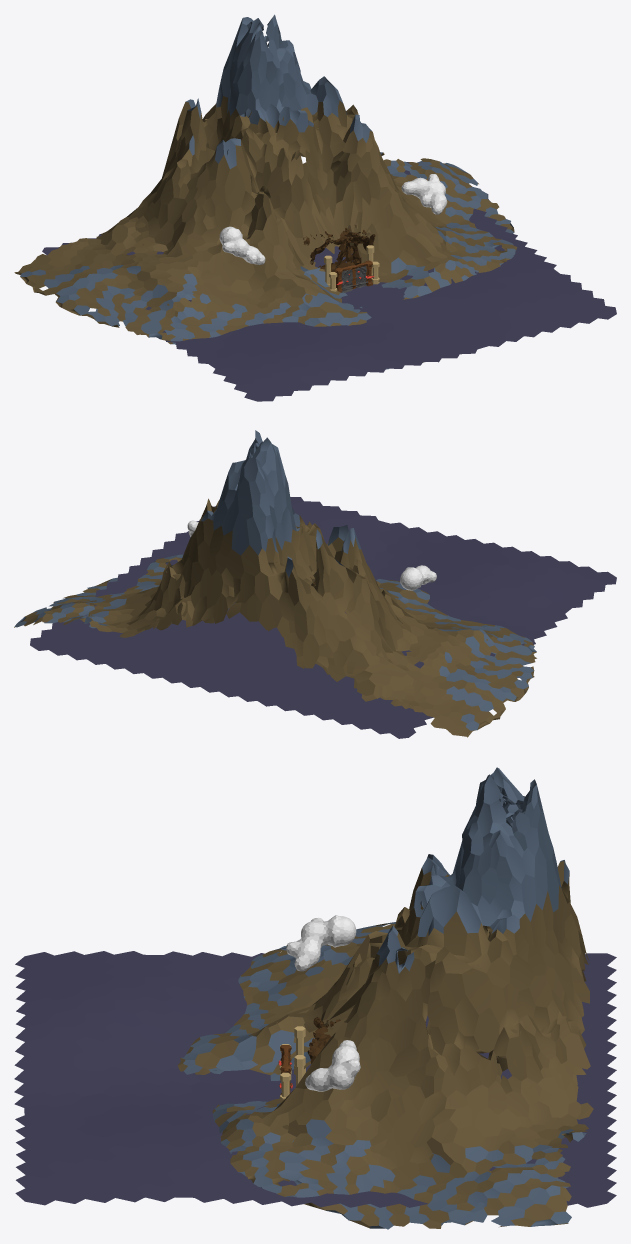
Rendered from levl.fbx.
The picture shows the model from 3 angles, top to bottom: view 1: azimuth 30°, elevation 25°; view 2: azimuth 150°, elevation 25°; view 3: azimuth 270°, elevation 25°; orthographic projection. The views are drawn at different scales.
Visible parts, largest first — view 1: Mesh1.001, Plane, Mball.013, Mesh1.002, Mesh1.0; view 2: Mesh1.001, Plane, Mball.013; view 3: Mesh1.001, Plane, Mball.013.
Part boxes in pixels (x1=…): Mesh1.001: x1=14, y1=14, x2=517, y2=369; Plane: x1=42, y1=162, x2=616, y2=401; Mball.013: x1=219, y1=174, x2=447, y2=264; Mesh1.002: x1=303, y1=227, x2=375, y2=271; Mesh1.0: x1=334, y1=260, x2=373, y2=292; Mesh1.001: x1=14, y1=430, x2=536, y2=737; Plane: x1=30, y1=497, x2=616, y2=738; Mball.013: x1=187, y1=520, x2=436, y2=590; Mesh1.001: x1=177, y1=767, x2=593, y2=1229; Plane: x1=14, y1=951, x2=616, y2=1207; Mball.013: x1=286, y1=915, x2=360, y2=1091.
Bounding box in the file's own units: 6176 × 3304 × 5146.
